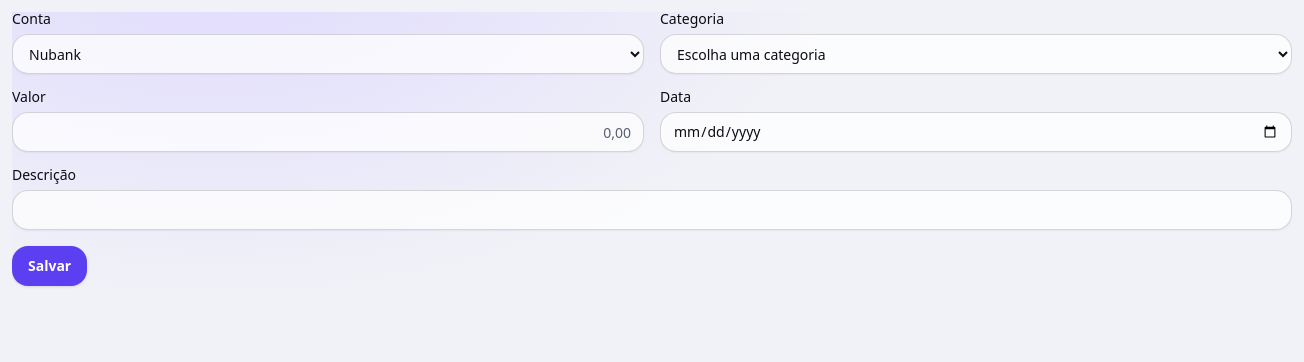
Scenario: TransactionForm › offers no direction for an Income or Expense category
Select "Alimentação" in the dropdown labelled "Categoria". click: x=976, y=54
box: [660, 34, 1292, 74]
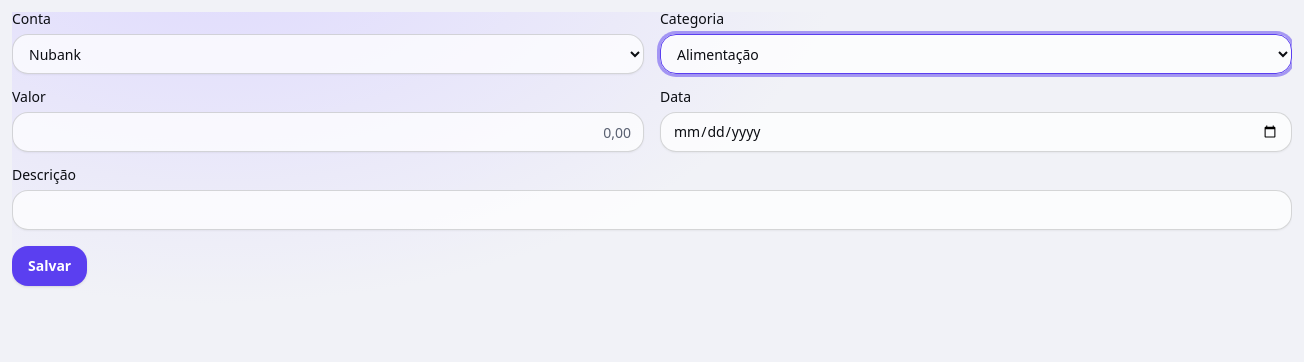
Expected: the radio button labelled "Saída" is not shown
Select "Transferência" in the dropdown labelled "Categoria". click: x=976, y=54
box: [660, 34, 1292, 74]
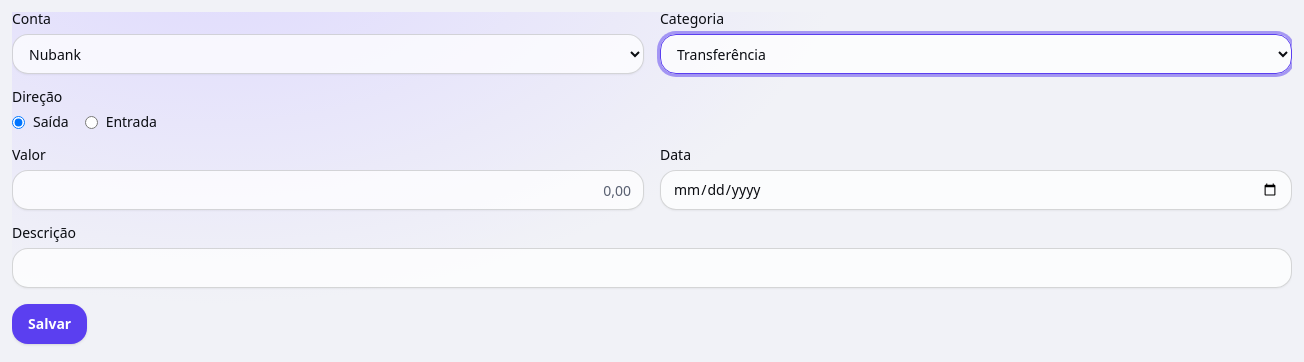
Expected: the radio button labelled "Saída" is checked, [12, 116, 25, 128]
